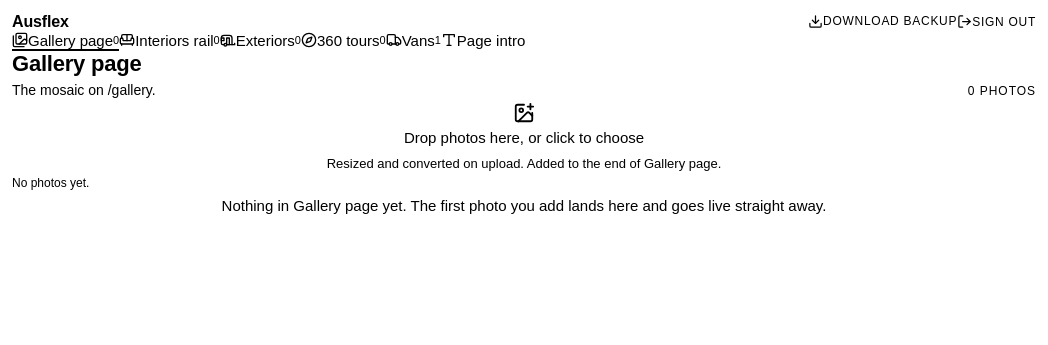
AdminPage — vans › lists the range with a count in the rail
Click the tab "Vans 1" at (413, 41), box x1=386 y1=32 x2=441 y2=51
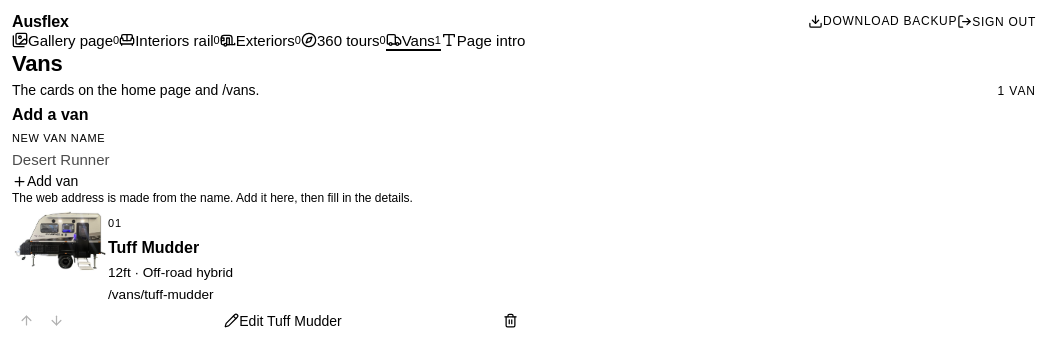
Check: the text "Tuff Mudder" is shown, box x1=108 y1=239 x2=199 y2=256
Check: the text "/vans/tuff-mudder" is shown, box x1=108 y1=287 x2=214 y2=302
